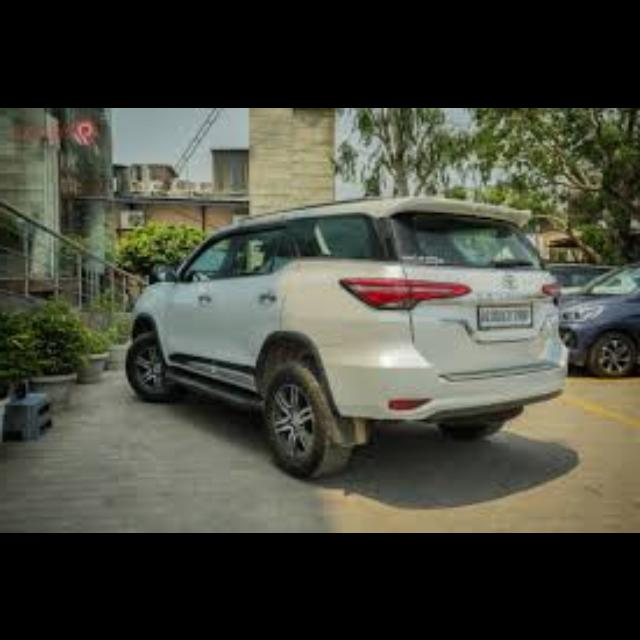vehicles: (130, 190, 578, 480)
